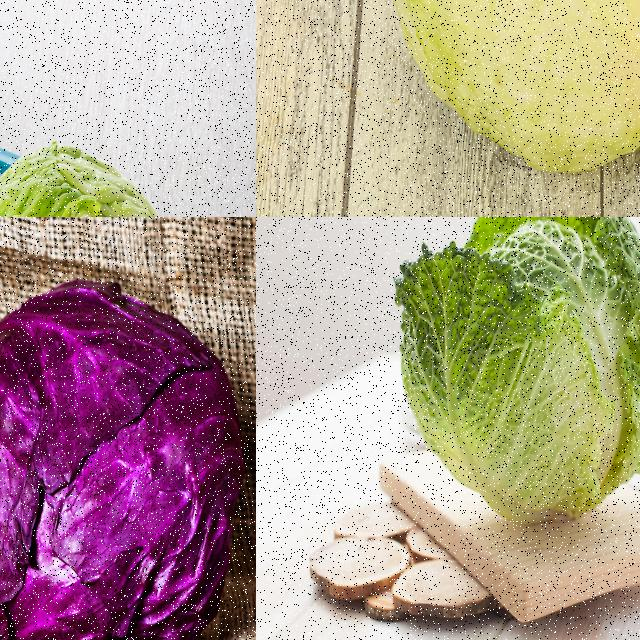cabbage: (0, 278, 248, 639), (388, 217, 639, 529), (371, 0, 639, 175), (0, 136, 180, 216)
